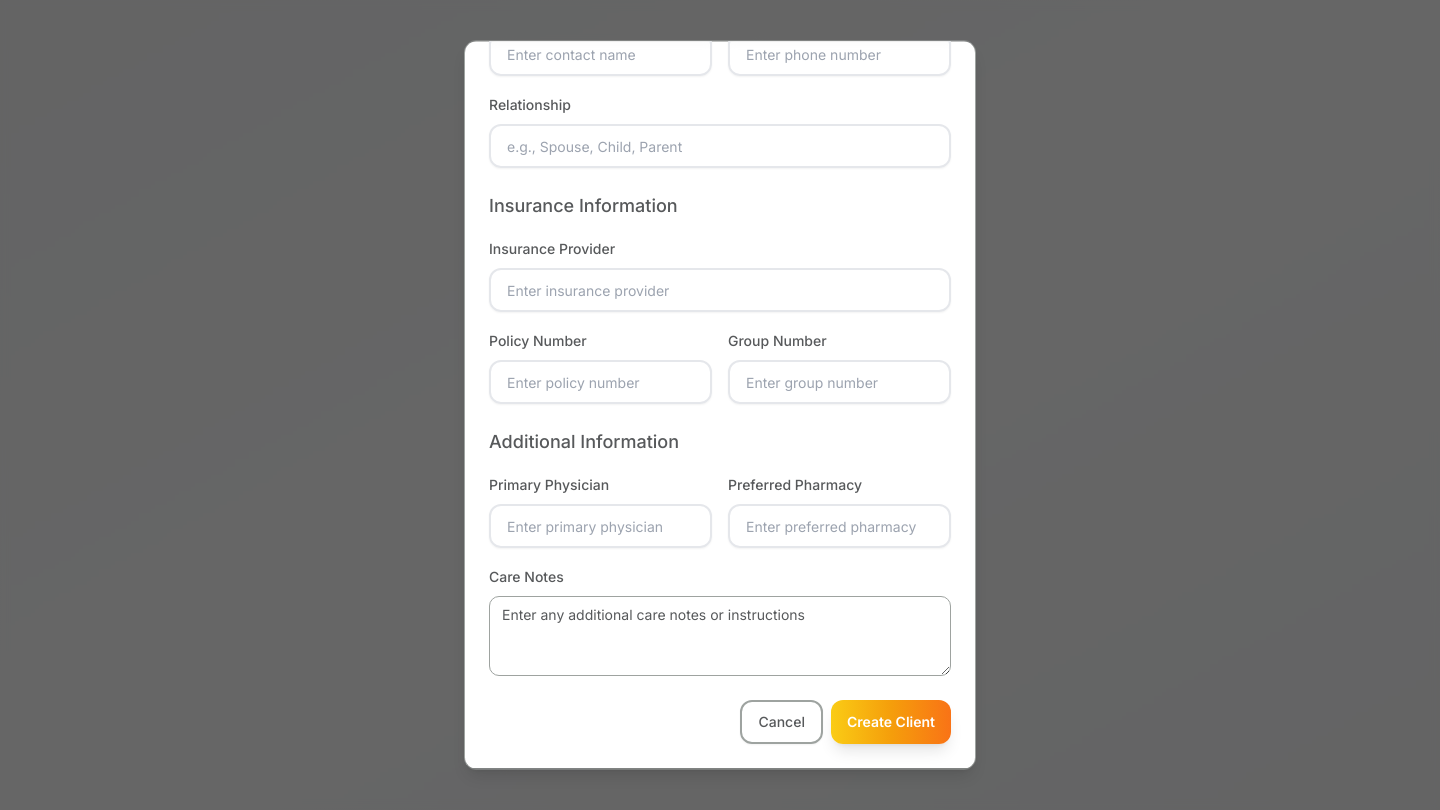
ClientDialog › validates required fields
(page scrolled)
Click the button "Create Client" at x=891, y=722, box [831,700,951,744]
(page scrolled)
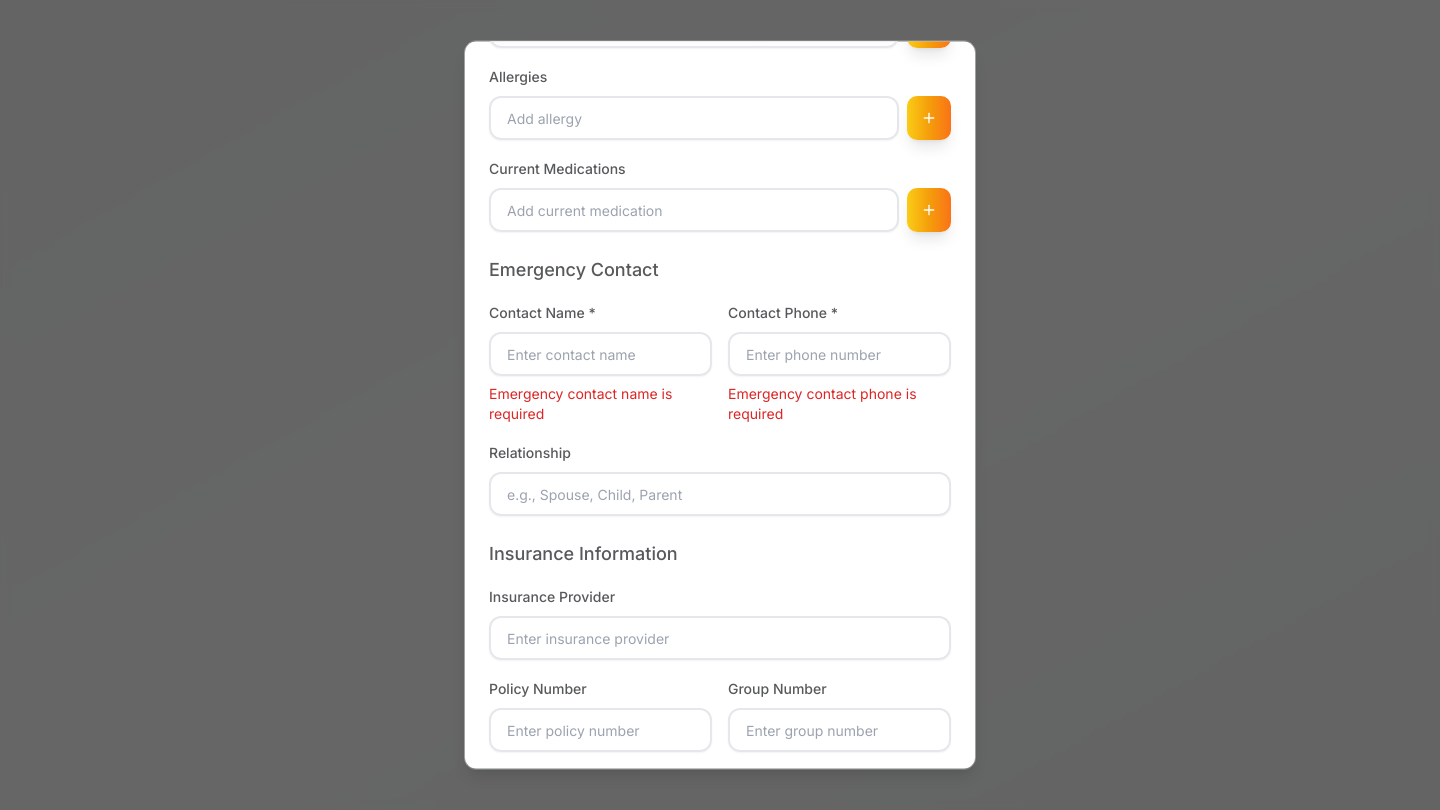
expect the text "Emergency contact name is required" is shown: met, box [489,386,672,422]
expect the text "Emergency contact phone is required" is shown: met, box [728,386,916,422]
